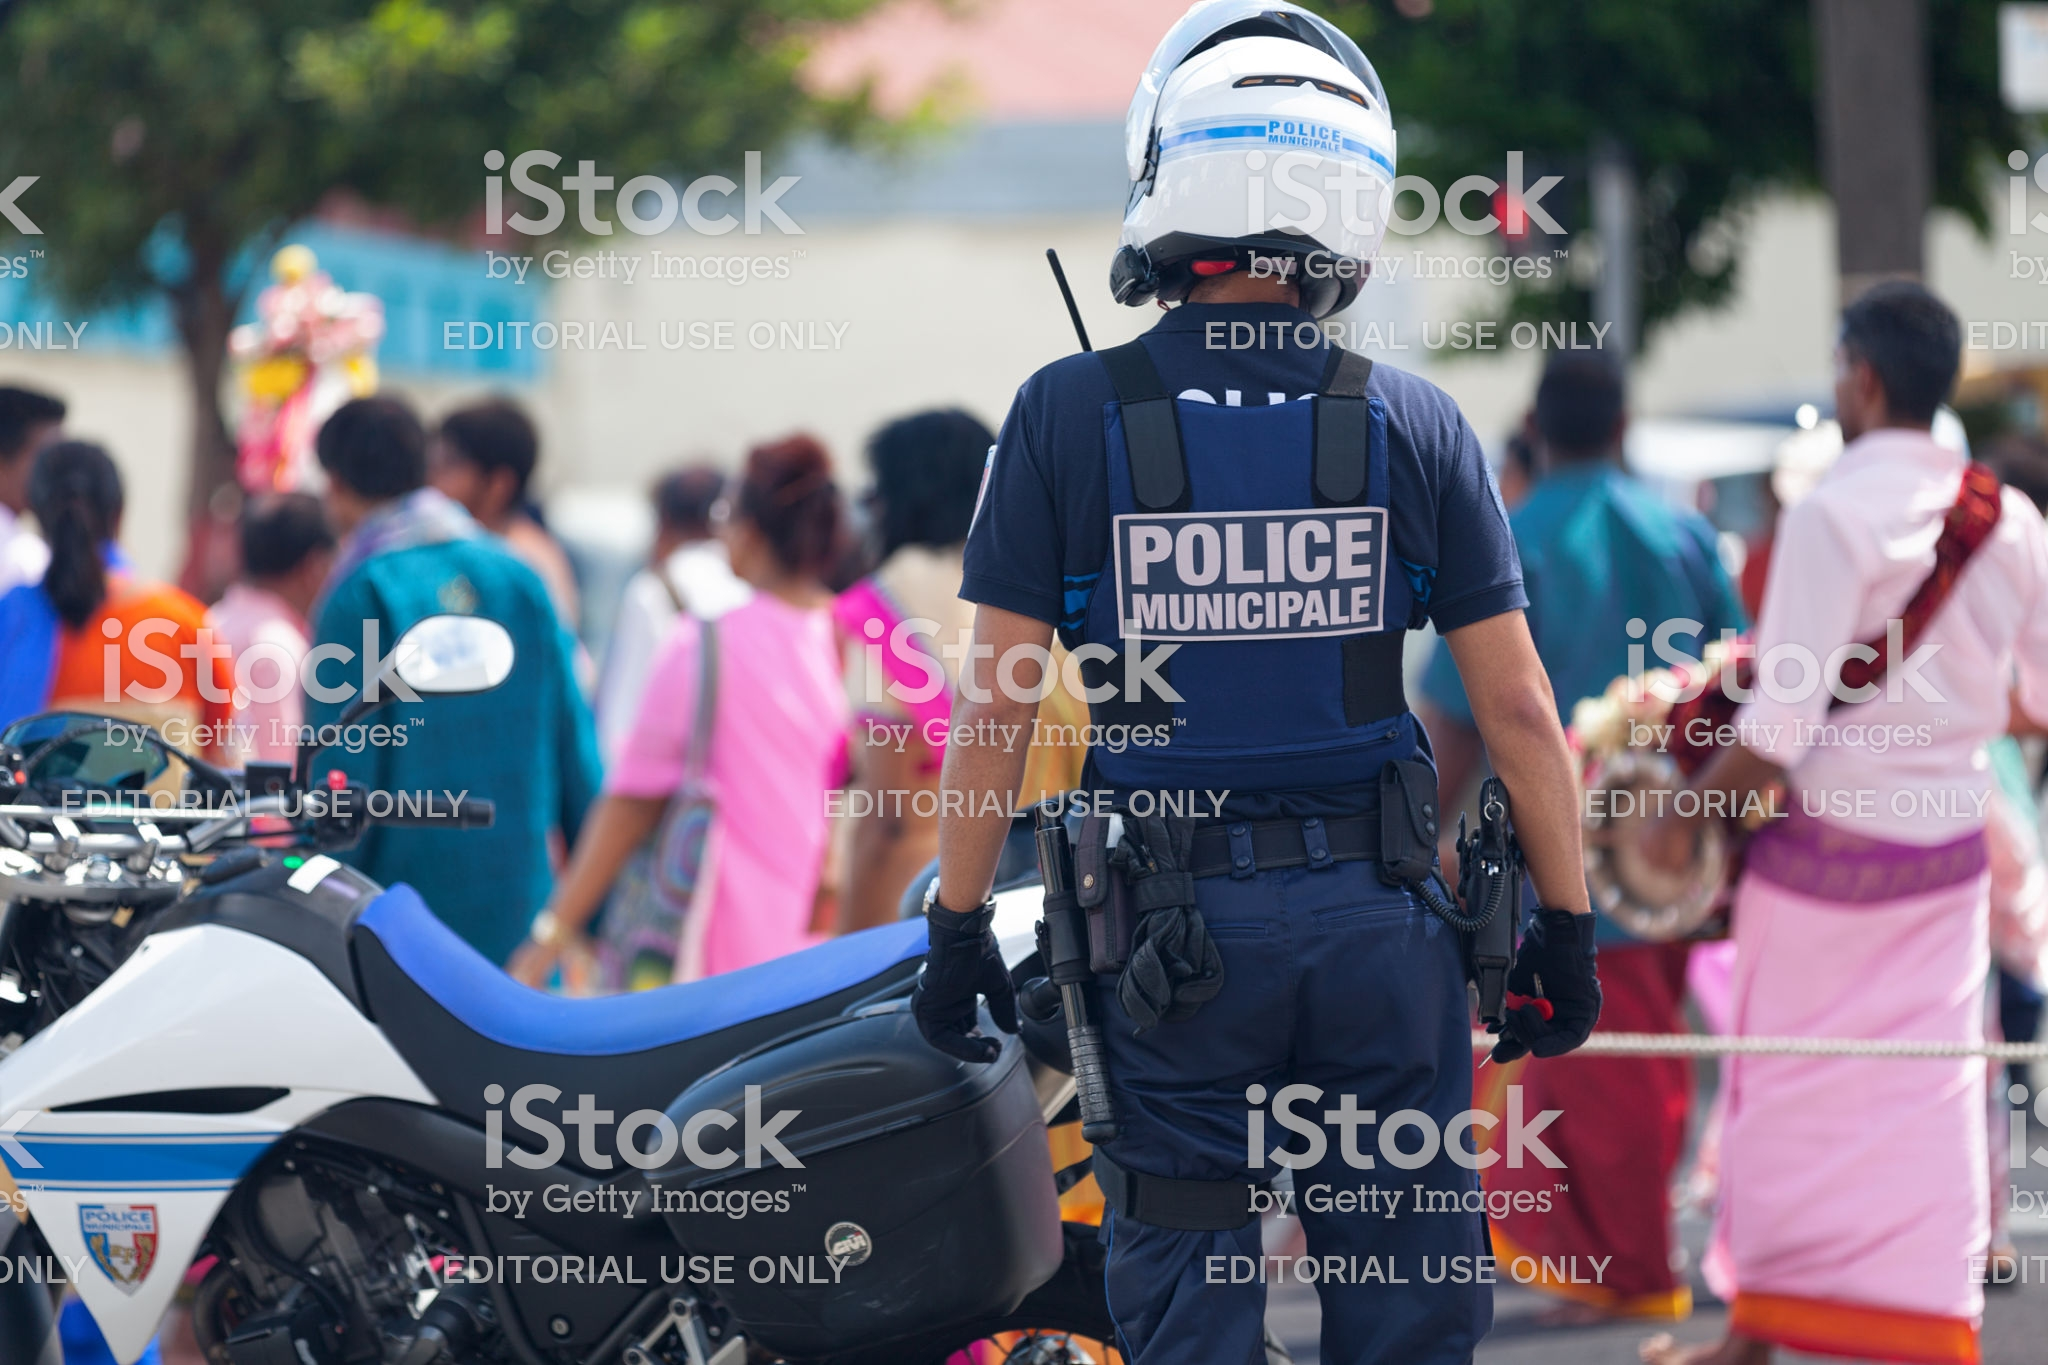helmet: (1109, 44, 1437, 280)
